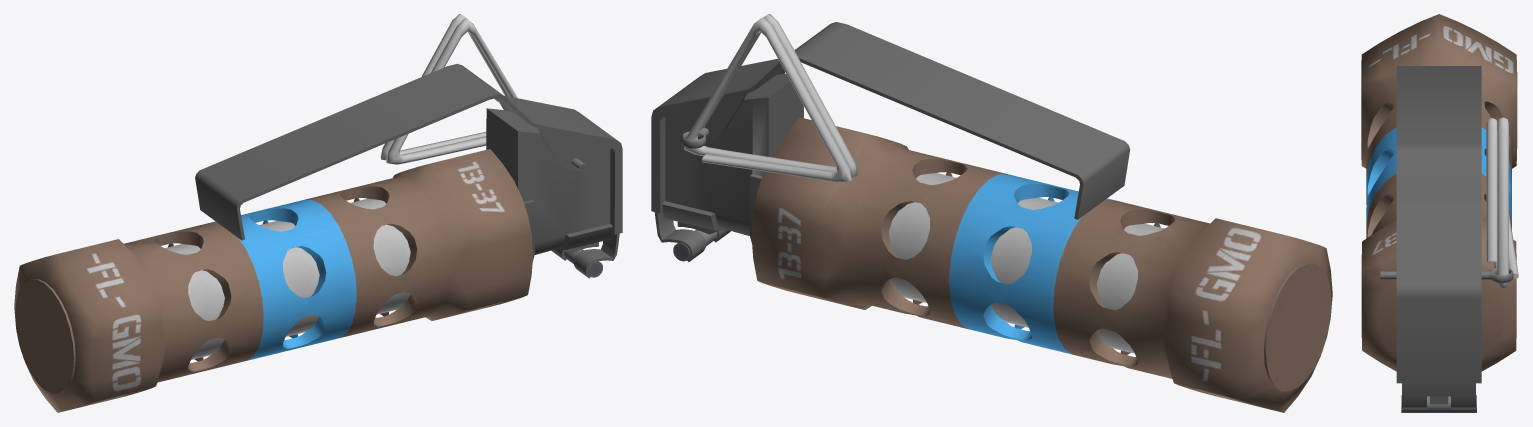
File: Flash_Dropped.glb
The picture shows the model from 3 angles, left to right: view 1: azimuth 30°, elevation 25°; view 2: azimuth 150°, elevation 25°; view 3: azimuth 270°, elevation 25°; orthographic projection. The views are drawn at different scales.
Visible parts, largest first — view 1: flashGrenade; view 2: flashGrenade; view 3: flashGrenade.
Part boxes in pixels (x1,y1,x2,y2): flashGrenade: (14, 14, 622, 412); flashGrenade: (651, 14, 1332, 412); flashGrenade: (1361, 14, 1518, 412).
Size of the model in its own units: 0.24 by 0.1111 by 0.0576.
Materials: 1 (1 with a texture image).
